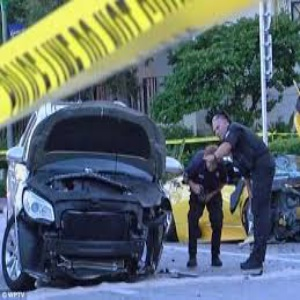bumper: (34, 224, 165, 281)
